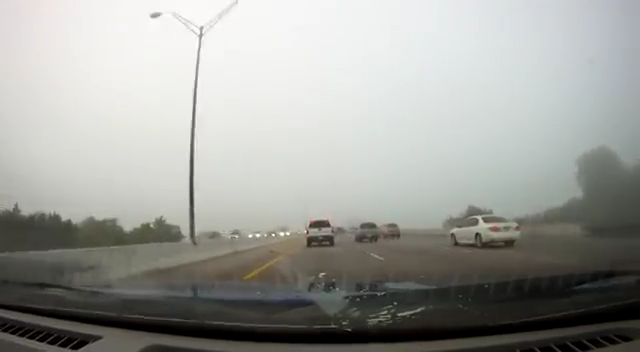car: (449, 214, 521, 247), (304, 218, 334, 246), (354, 221, 381, 243), (380, 222, 401, 240), (247, 230, 265, 243), (264, 230, 279, 242), (227, 232, 243, 243), (278, 228, 293, 238)
